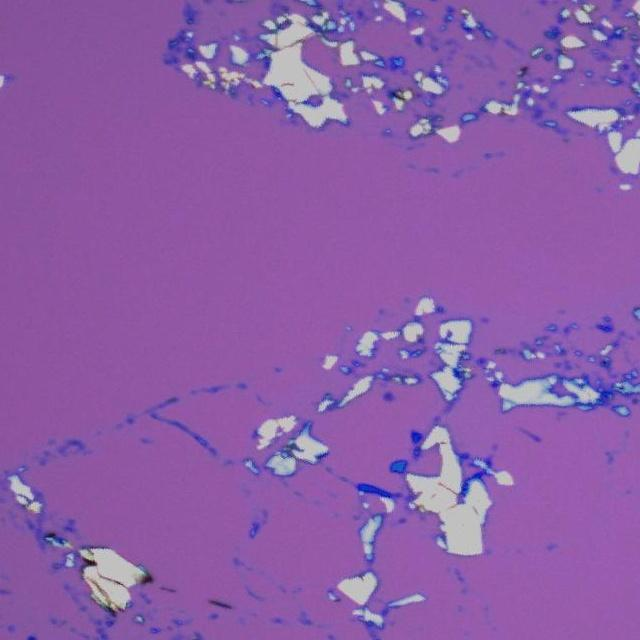monolayer-eWW4: (519, 427, 532, 437)
